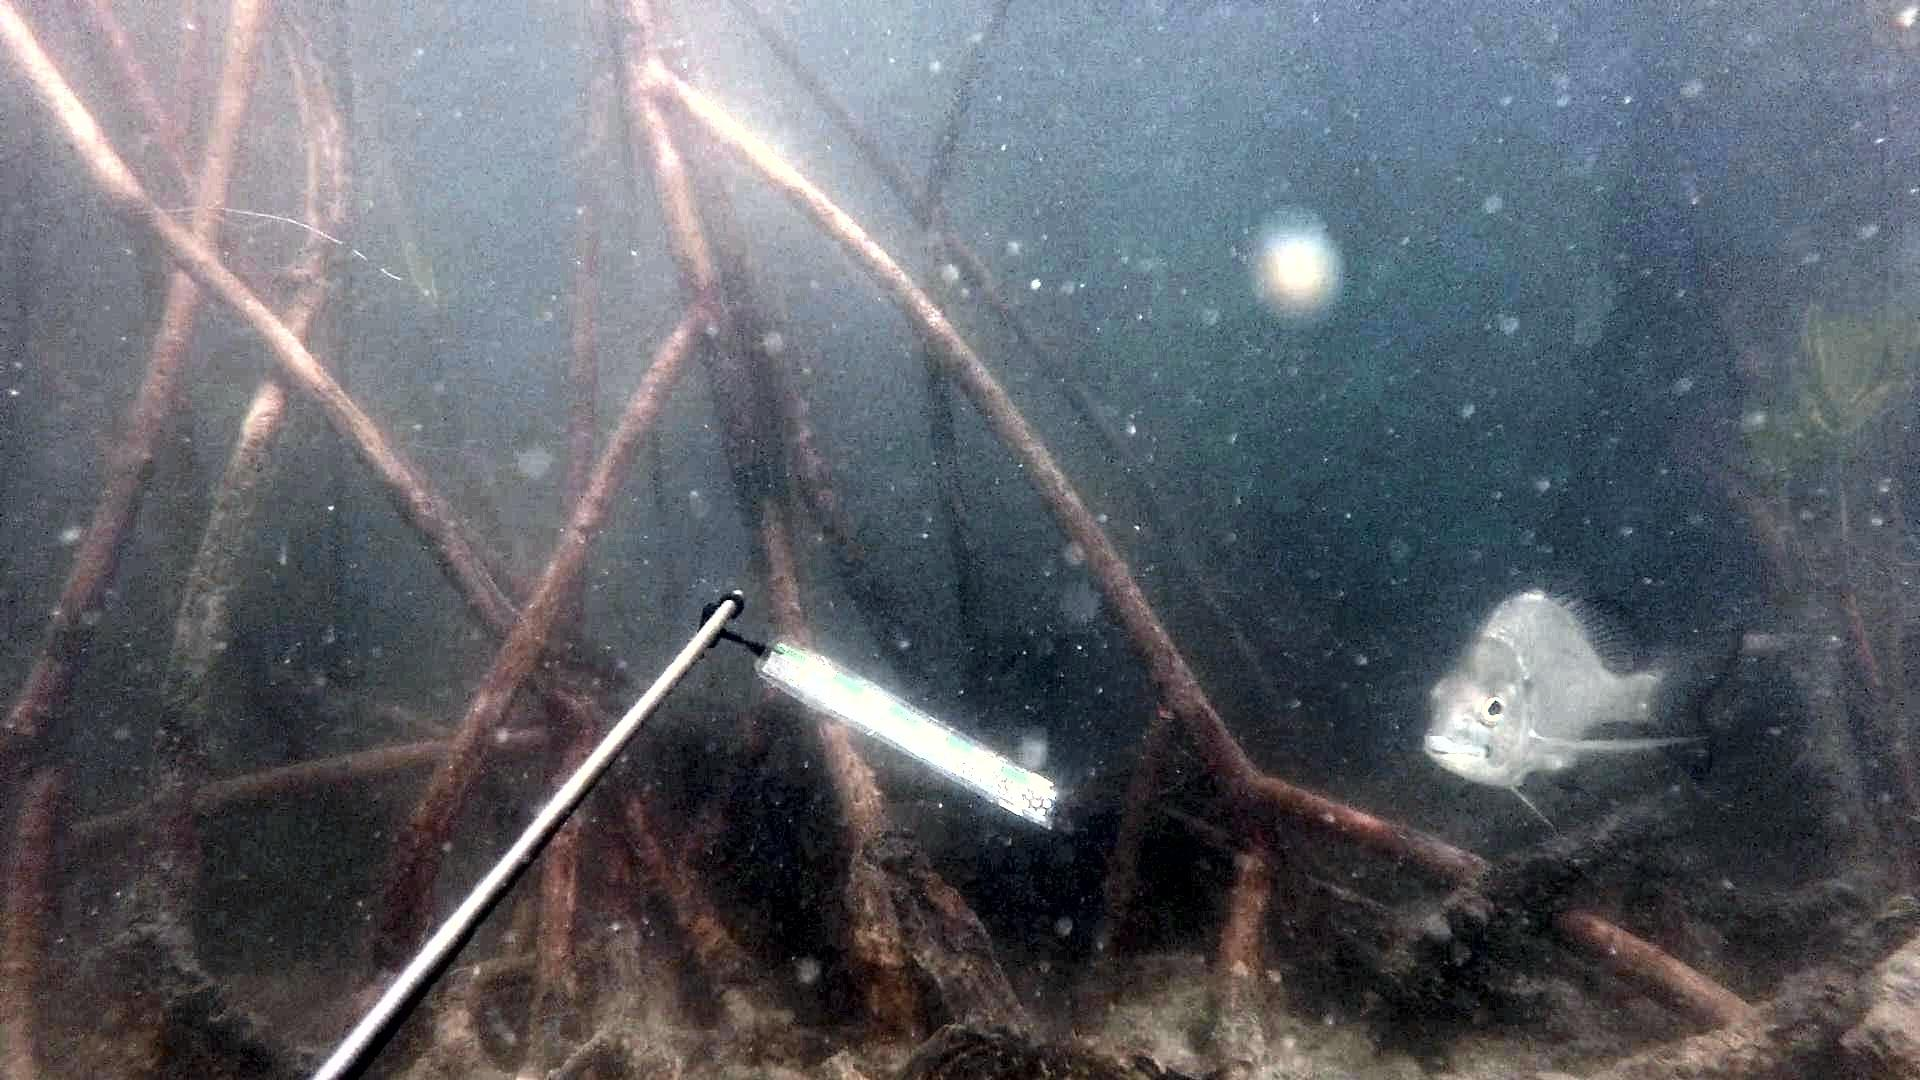acanthopagrus palmaris: (1418, 582, 1754, 832)
